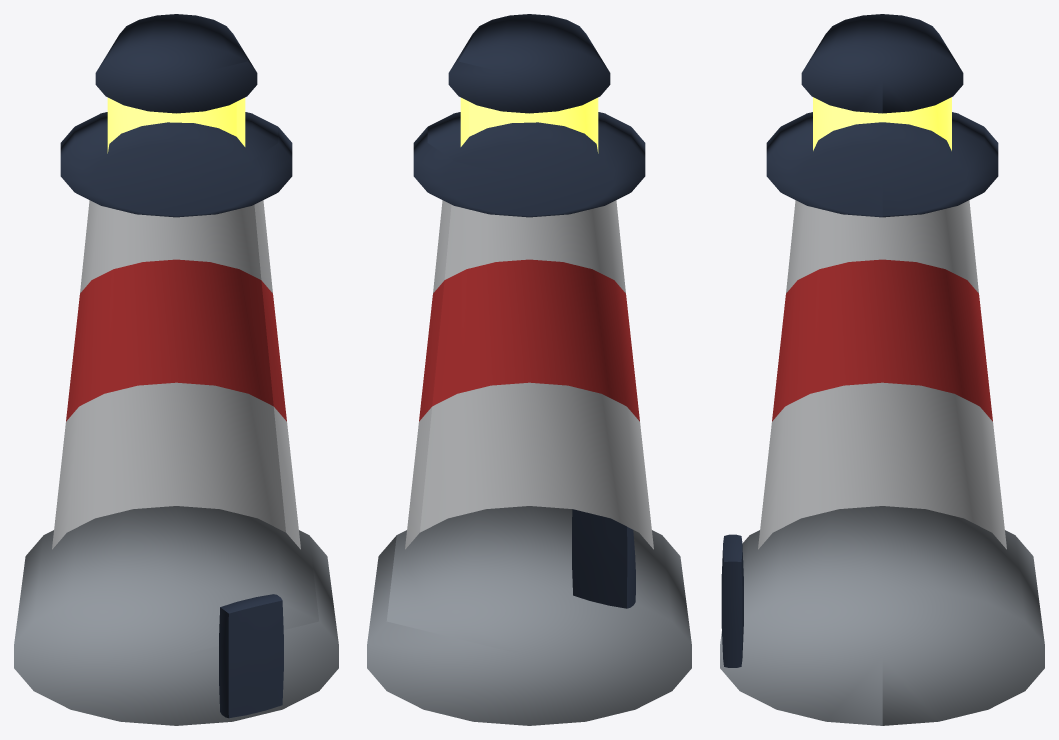
The model's file is lighthouse.glb.
3 views of the same model, side by side, from view 1: azimuth 30°, elevation 25°; view 2: azimuth 150°, elevation 25°; view 3: azimuth 270°, elevation 25° (orthographic).
Parts seen in each view (by area): view 1: Lighthouse; view 2: Lighthouse; view 3: Lighthouse.
Part boxes in pixels (x1,y1,x2,y2): Lighthouse: [14, 14, 338, 725]; Lighthouse: [367, 14, 691, 725]; Lighthouse: [720, 14, 1044, 725].
Bounding box in the file's own units: 3.7 × 7.95 × 3.64.
